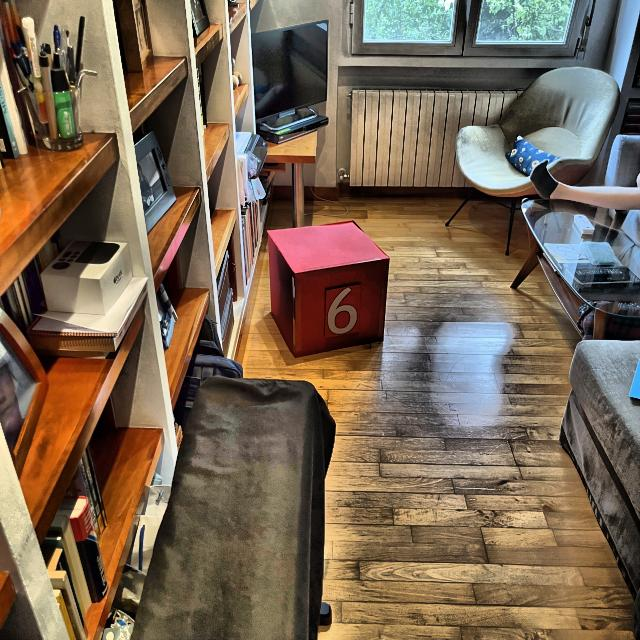red box: (270, 221, 390, 359)
six: (328, 287, 358, 335)
